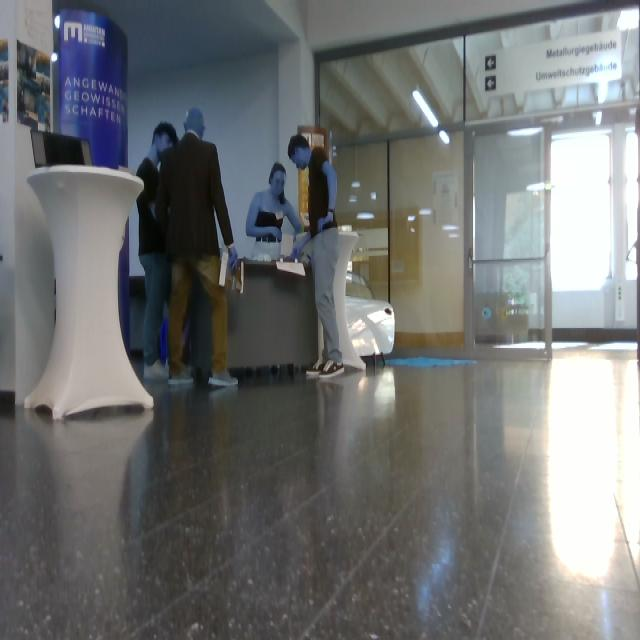desk: (228, 262, 317, 368), (130, 277, 146, 357)
door: (316, 1, 640, 362)
light bulb: (413, 90, 438, 129), (413, 90, 438, 128), (438, 129, 450, 144), (440, 130, 450, 145), (55, 16, 60, 29), (52, 53, 58, 62)
person: (156, 109, 244, 386), (289, 136, 344, 377), (137, 124, 178, 378), (247, 164, 303, 260)
pillar: (1, 1, 55, 404)
table: (25, 166, 152, 421), (334, 232, 364, 369)
tiled floor: (1, 346, 640, 640)
